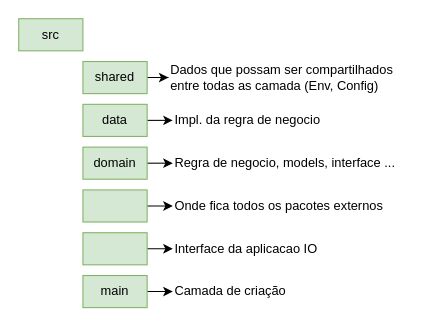
This 448x326 diagram has some shape labels left out. The box of each missing label's shape, as (x1, y1, x2, y2) in pixels:
infra: (82, 189, 147, 222)
ui: (82, 232, 147, 265)
